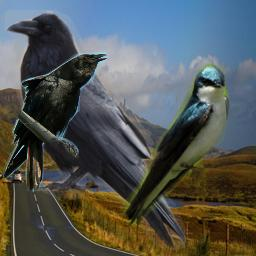Crow: (5, 10, 190, 252), (3, 52, 108, 192)
Swallow: (120, 63, 231, 231)
